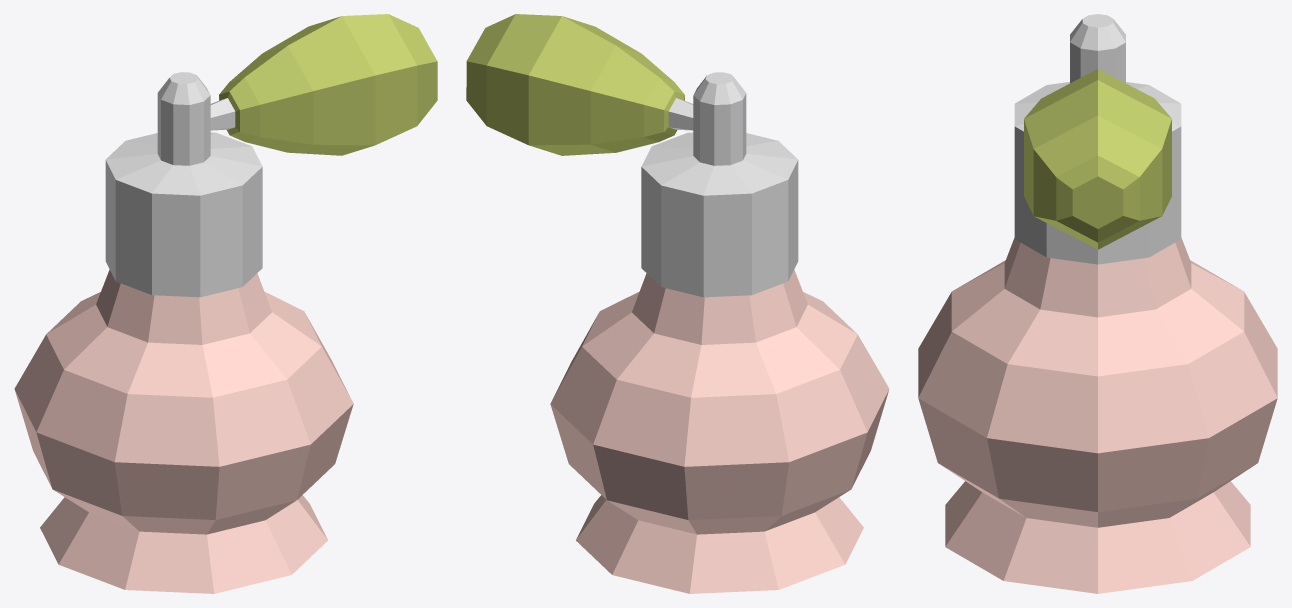
The model's file is perfumeBottle.fbx.
The picture shows the model from 3 angles, left to right: view 1: azimuth 30°, elevation 25°; view 2: azimuth 150°, elevation 25°; view 3: azimuth 270°, elevation 25°; orthographic projection. The views are drawn at different scales.
Visible parts, largest first — view 1: geo_perfumeBottle; view 2: geo_perfumeBottle; view 3: geo_perfumeBottle.
Part boxes in pixels (bbox=[...]): geo_perfumeBottle: bbox=[14, 14, 437, 593]; geo_perfumeBottle: bbox=[466, 14, 889, 593]; geo_perfumeBottle: bbox=[918, 14, 1277, 593].
Size of the model in its own units: 0.106 by 0.1248 by 0.0765.
